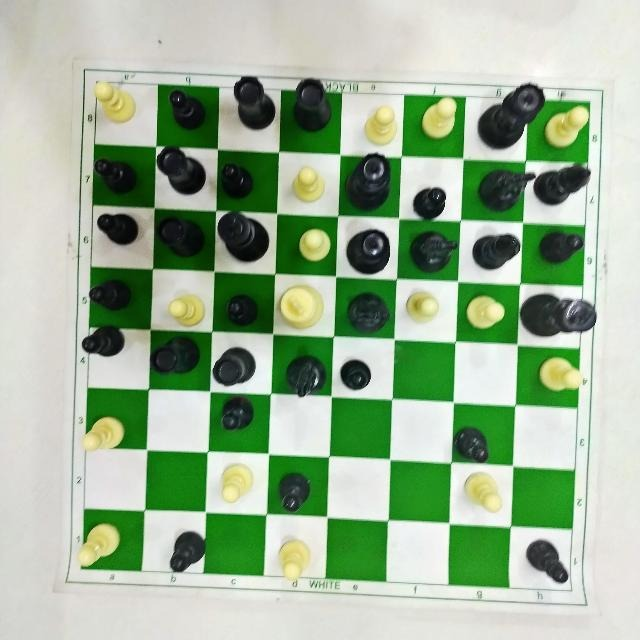black-bishop: (538, 164, 599, 209), (279, 283, 331, 333), (470, 229, 522, 275), (89, 78, 136, 127)
black-king: (520, 291, 597, 340), (217, 210, 275, 266)
black-knight: (474, 166, 535, 216), (408, 228, 462, 276), (346, 290, 393, 337), (284, 352, 328, 400)
black-pawn: (520, 535, 576, 587), (229, 72, 277, 131), (167, 527, 211, 574), (216, 391, 259, 438), (95, 210, 143, 251), (539, 228, 588, 268), (275, 467, 315, 515), (92, 157, 138, 198), (408, 183, 450, 225), (454, 424, 496, 466), (166, 88, 207, 131), (86, 279, 136, 313), (216, 162, 258, 202), (80, 326, 128, 360), (335, 357, 374, 397), (222, 293, 263, 331)
black-queen: (344, 152, 393, 213), (344, 228, 396, 276)
black-rook: (478, 79, 546, 154), (287, 73, 336, 137), (153, 143, 209, 199), (154, 212, 207, 263), (149, 334, 201, 380), (214, 347, 258, 390)
white-pawn: (537, 354, 589, 400), (77, 414, 128, 459), (274, 536, 319, 585), (461, 469, 505, 519), (546, 104, 589, 154), (419, 93, 460, 145), (76, 522, 123, 567), (403, 285, 447, 331), (295, 221, 334, 269), (463, 292, 509, 331), (286, 164, 327, 207), (217, 463, 255, 508), (166, 292, 209, 331), (362, 104, 398, 150)
